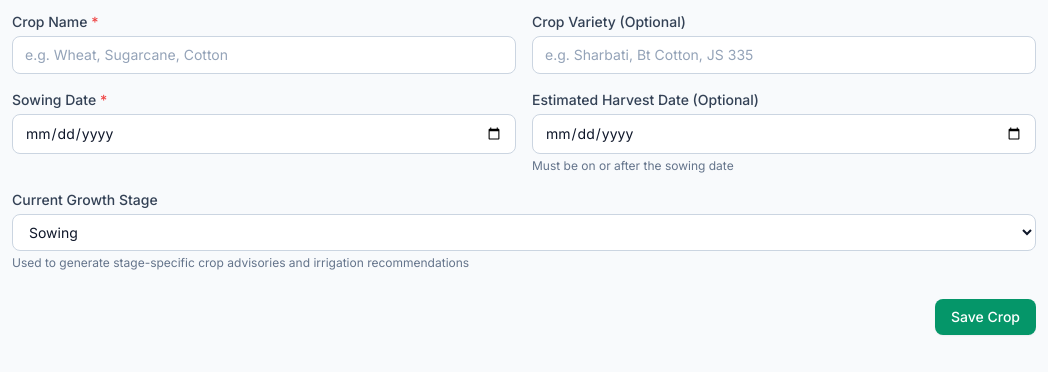
Test: Frontend Crop Management Component Tests (Feature 3) › Crop.Validate: displays validation errors for missing name and sowing date
The image size is (1048, 372).
Click the button "Save Crop". click: [986, 317]
box: [935,299,1036,335]
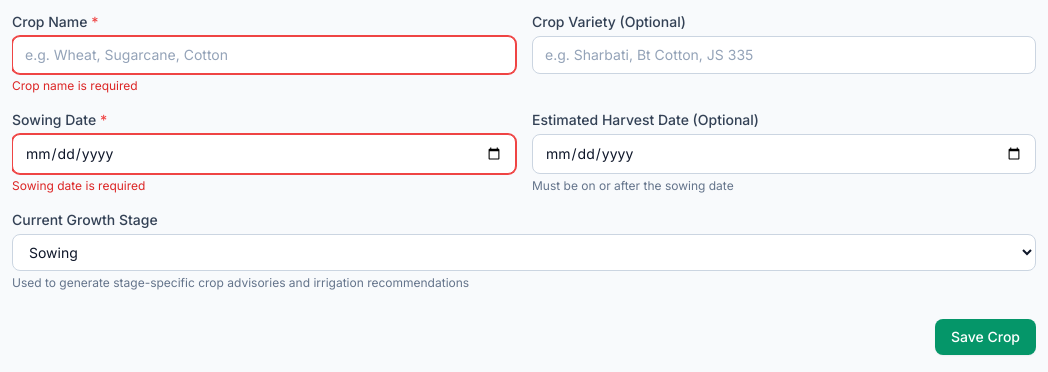
Check: the text "Crop name is required" is shown, box [12,78,138,93]
Check: the text "Sowing date is required" is shown, box [12,178,145,193]
